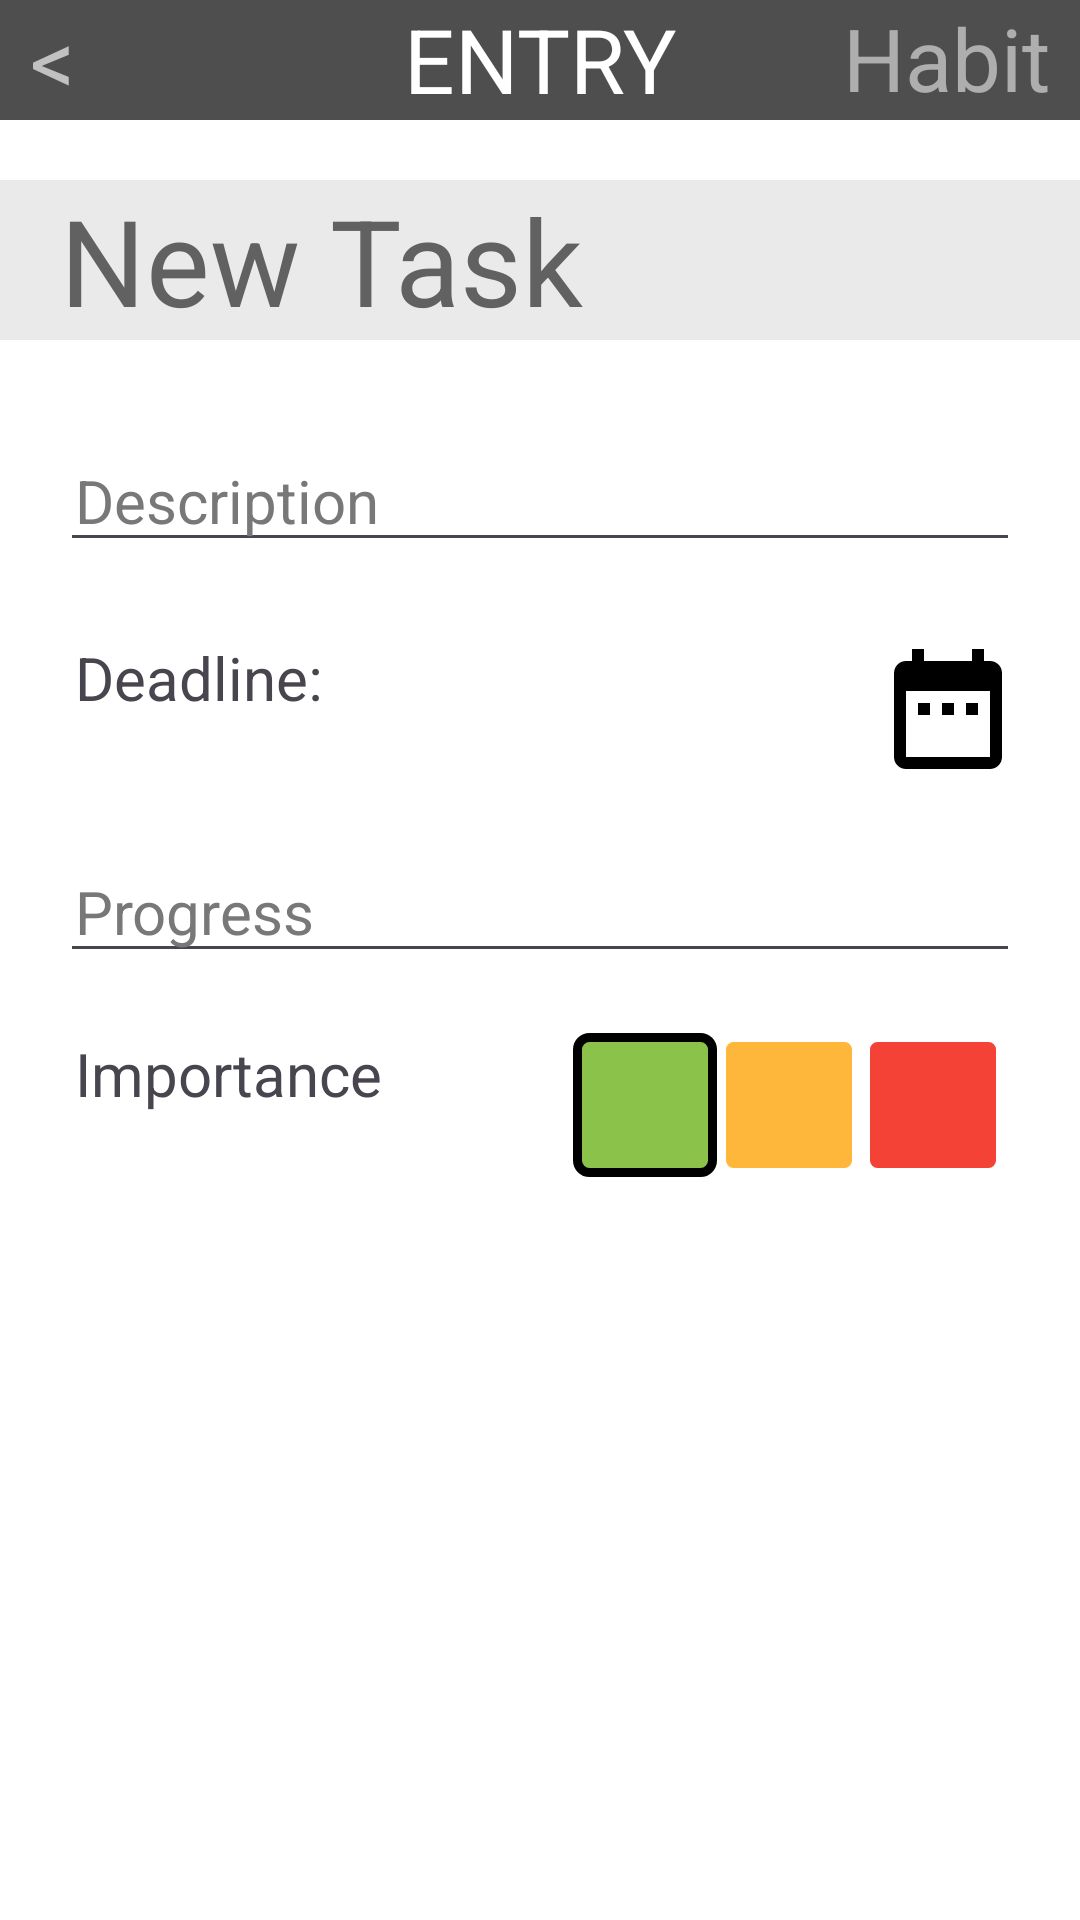

Screen size 1080x1920. Icon name, then its box in pixels as [x1, y1, x2, y2]:
Datepicker: [894, 649, 1002, 769]
